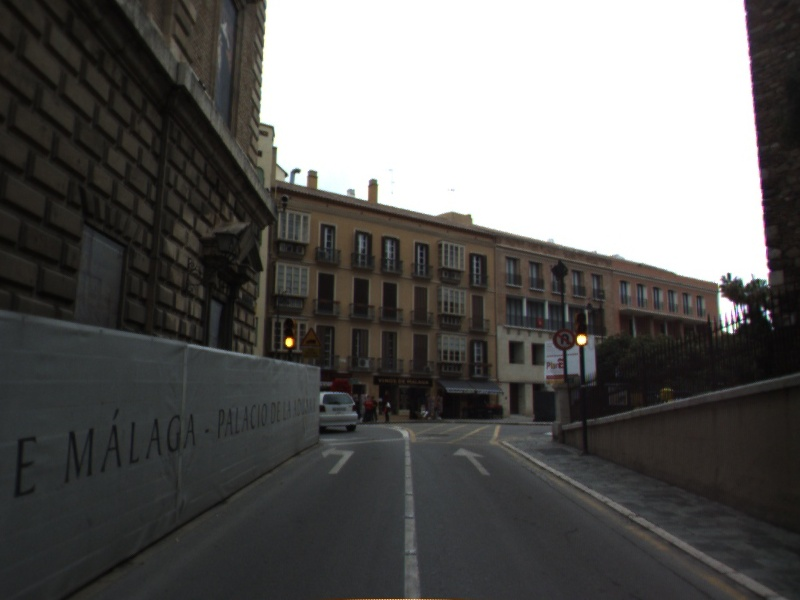LEFT: (320, 445, 356, 476)
STRAIGHT: (451, 445, 492, 477)
